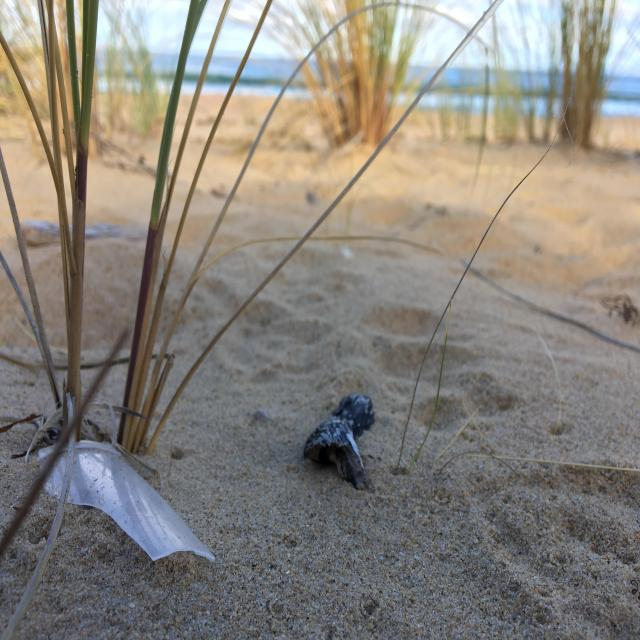litter: (38, 441, 217, 563)
